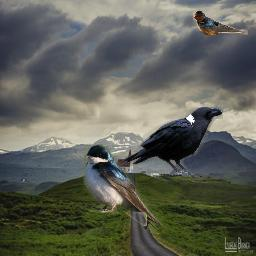Crow: (122, 107, 223, 180)
Swallow: (83, 144, 163, 235), (193, 10, 248, 35)
